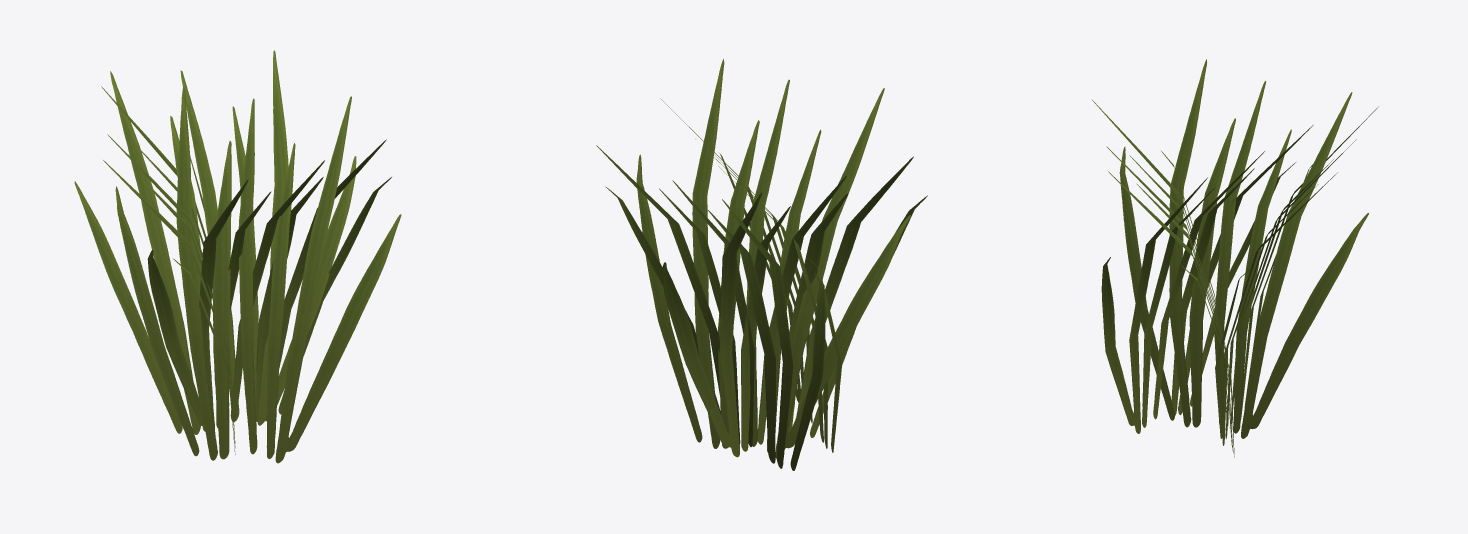
The model's file is Shrub-3.FBX.
The picture shows the model from 3 angles, left to right: view 1: azimuth 30°, elevation 25°; view 2: azimuth 150°, elevation 25°; view 3: azimuth 270°, elevation 25°; orthographic projection. The views are drawn at different scales.
Parts seen in each view (by area): view 1: Shrub-3; view 2: Shrub-3; view 3: Shrub-3.
Boxes of the visible parts, box(x1,y1,x2,y2) form: Shrub-3: box(74, 50, 401, 463); Shrub-3: box(596, 59, 927, 470); Shrub-3: box(1092, 59, 1378, 457).
Size of the model in its own units: 30.44 by 25.39 by 28.72.
